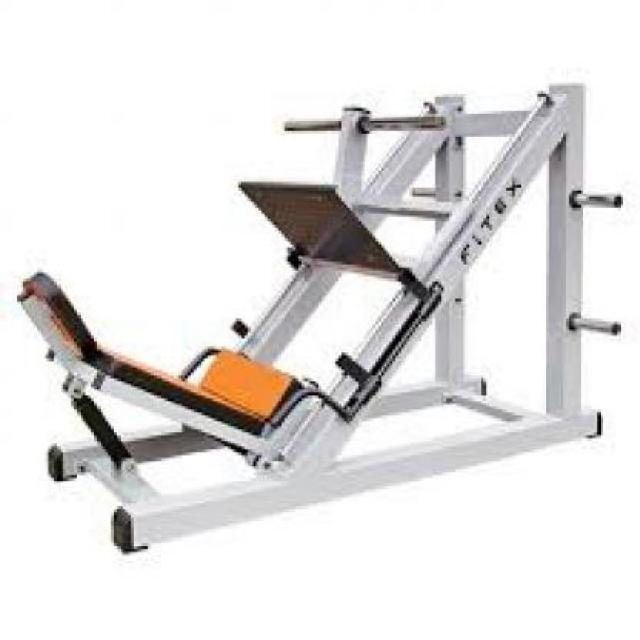leg press: (10, 40, 628, 571)
